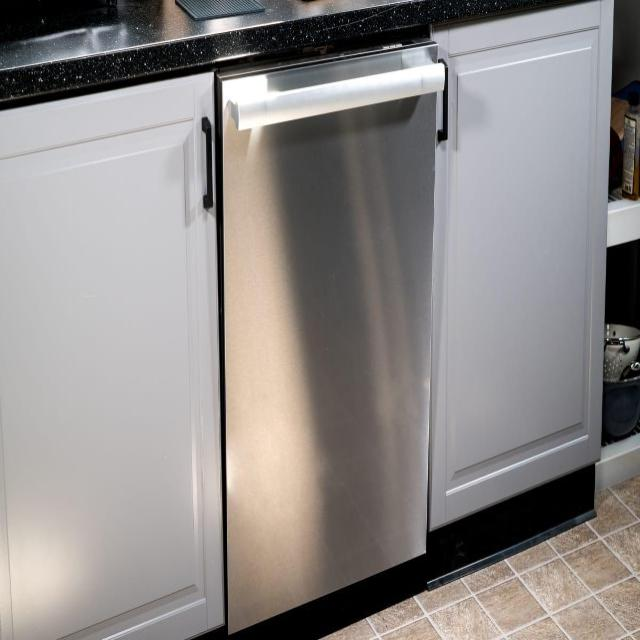dishwasher: (212, 34, 441, 640)
